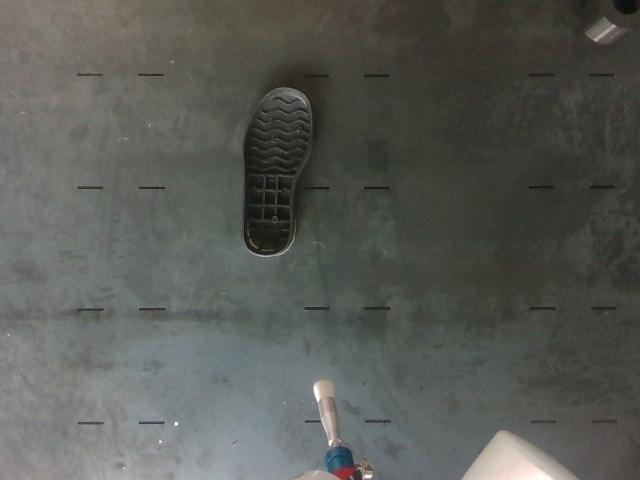shoes: (245, 87, 312, 255)
